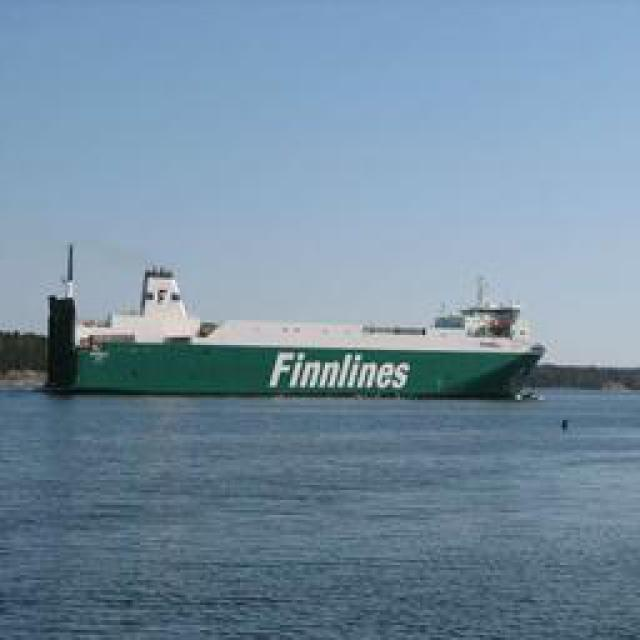Ship: (48, 253, 543, 401)
